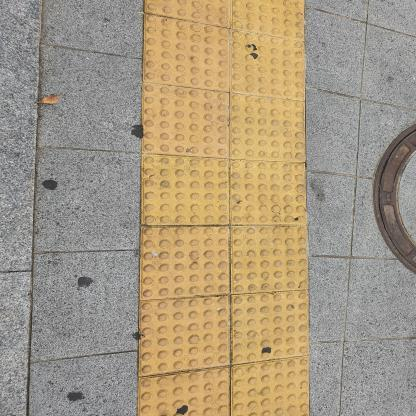podotacti: (128, 0, 323, 415)
